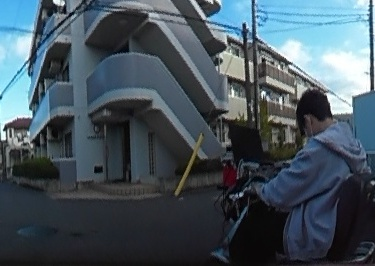person: (229, 89, 365, 266)
